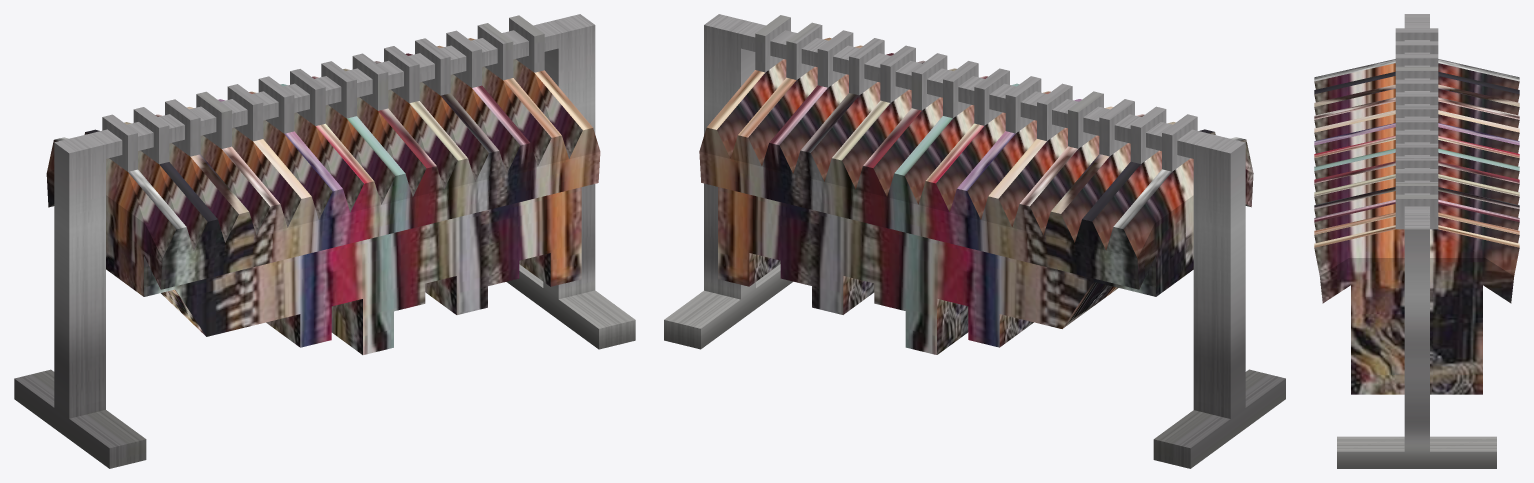
Rendered from deco-top.fbx.
3 renders of one model, left to right at view 1: azimuth 30°, elevation 25°; view 2: azimuth 150°, elevation 25°; view 3: azimuth 270°, elevation 25°, orthographic. The views are drawn at different scales.
Parts seen in each view (by area): view 1: Cube.003; view 2: Cube.003; view 3: Cube.003.
Boxes of the visible parts, x1,y1,x2,y2 form: Cube.003: (14, 14, 635, 468); Cube.003: (664, 14, 1285, 468); Cube.003: (1314, 14, 1519, 468).
Size of the model in its own units: 530 by 284 by 214.
Materials: 2 (2 with a texture image).
